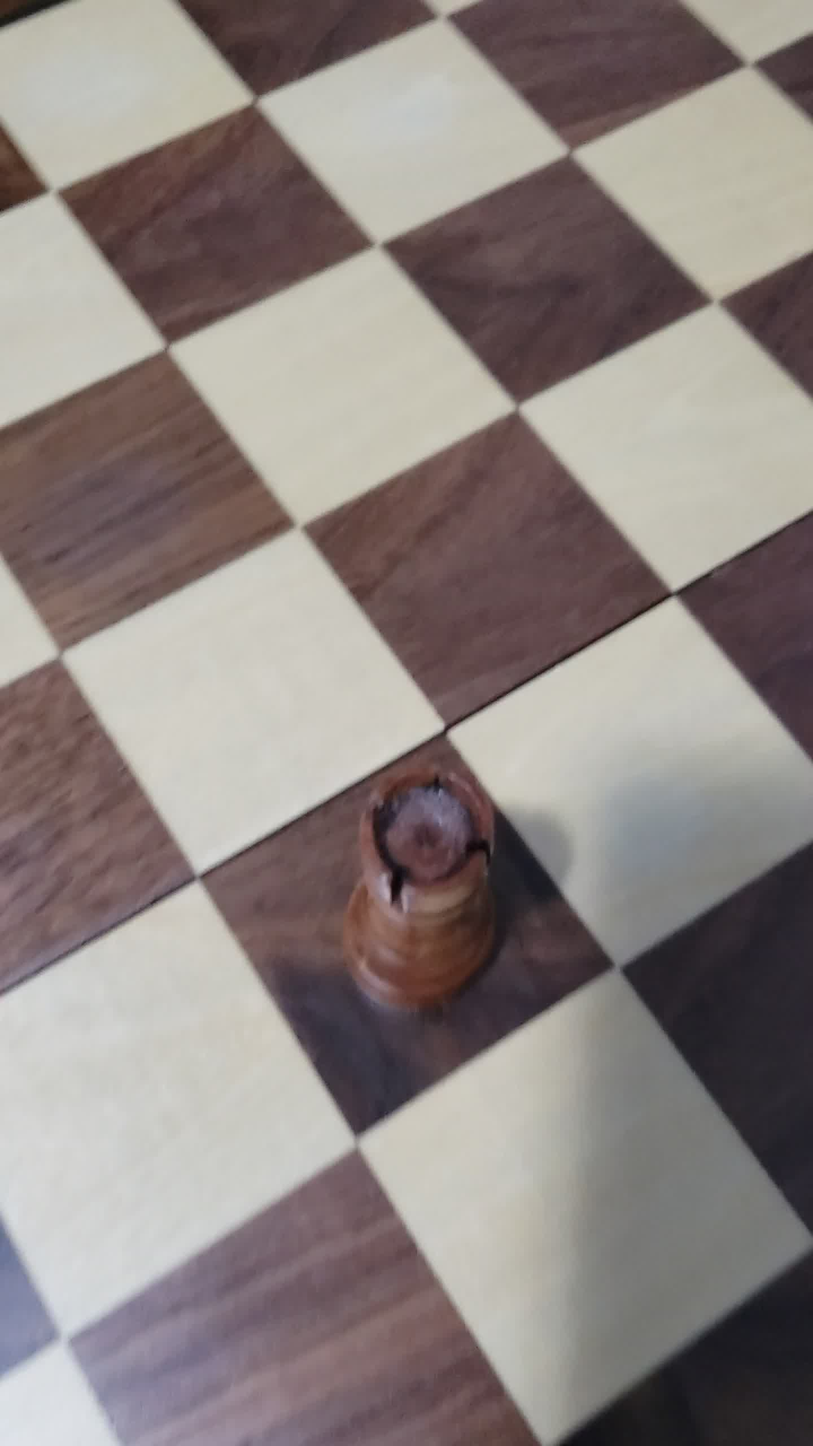black-rook: (302, 757, 541, 1035)
